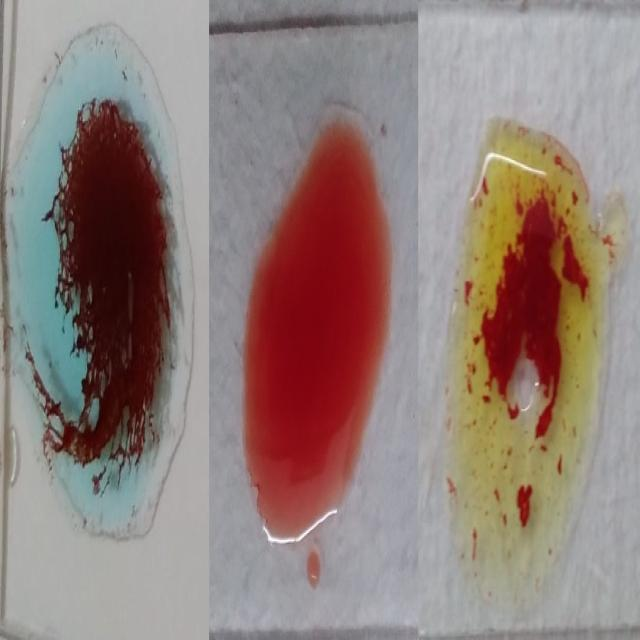A: (12, 23, 192, 541)
B: (451, 111, 608, 624)
